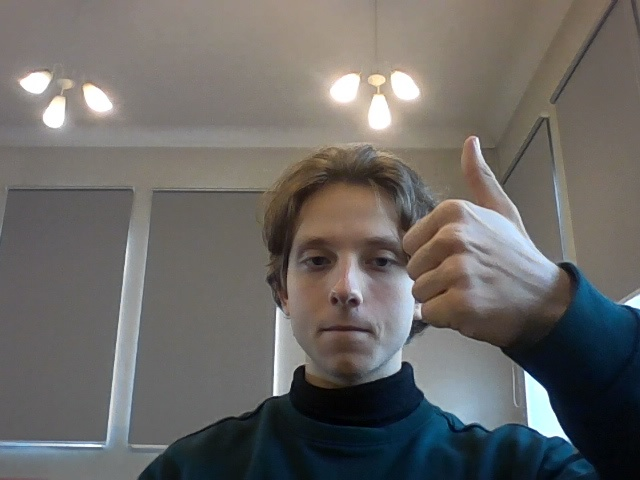thank you: (392, 129, 568, 371)
